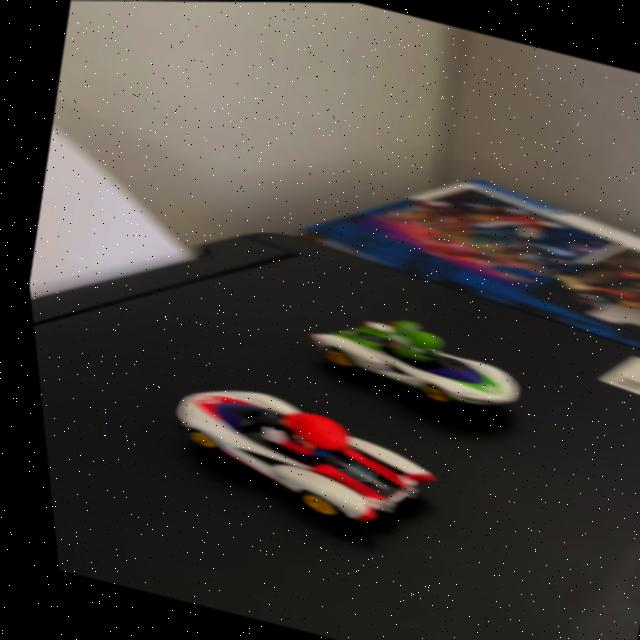mario: (128, 364, 464, 554)
yoshi: (280, 289, 536, 432)
